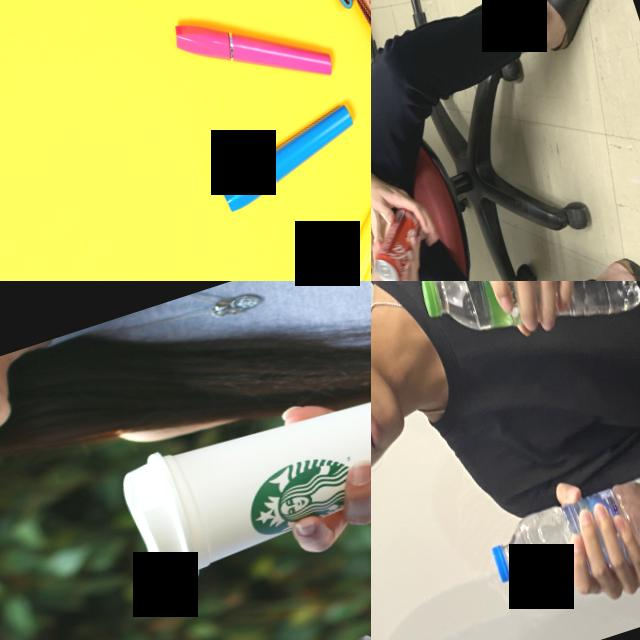bottle: (476, 457, 640, 595), (402, 281, 640, 365)
can: (371, 202, 436, 281)
cup: (113, 358, 371, 589)
